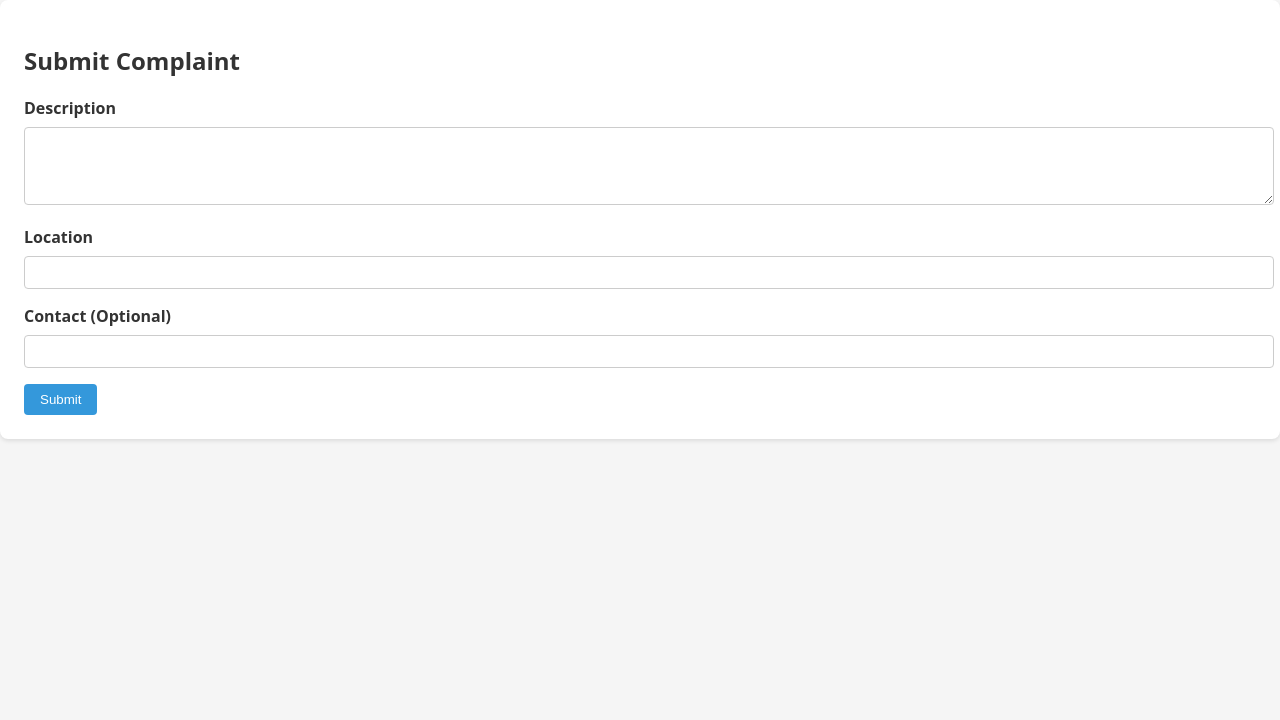
Test case: ComplaintForm › successful submission shows triage result
The width and height of the screenshot is (1280, 720).
Type "There is a huge pothole here." into the text box labelled "Description".
click(649, 166); type("There is a huge pothole here.")  # box [24,127,1274,205]
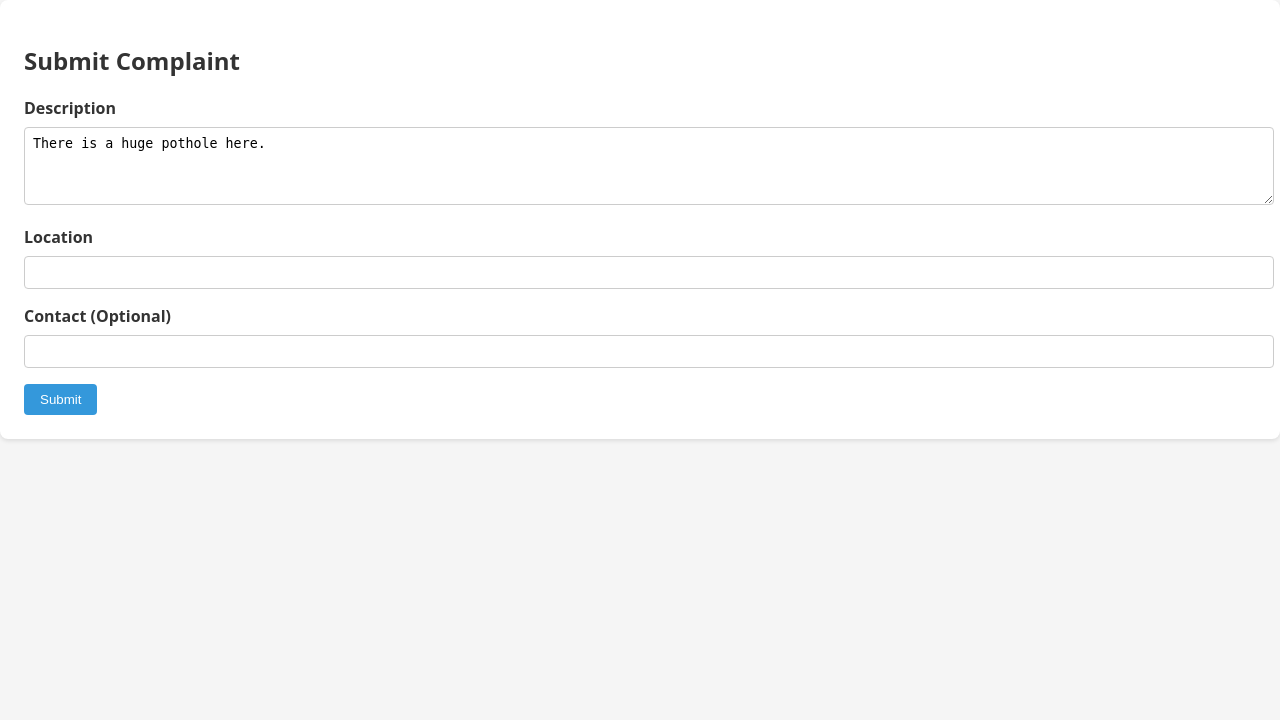
Type "Main St" into the field labelled "Location".
click(649, 272); type("Main St")  # box [24,256,1274,289]
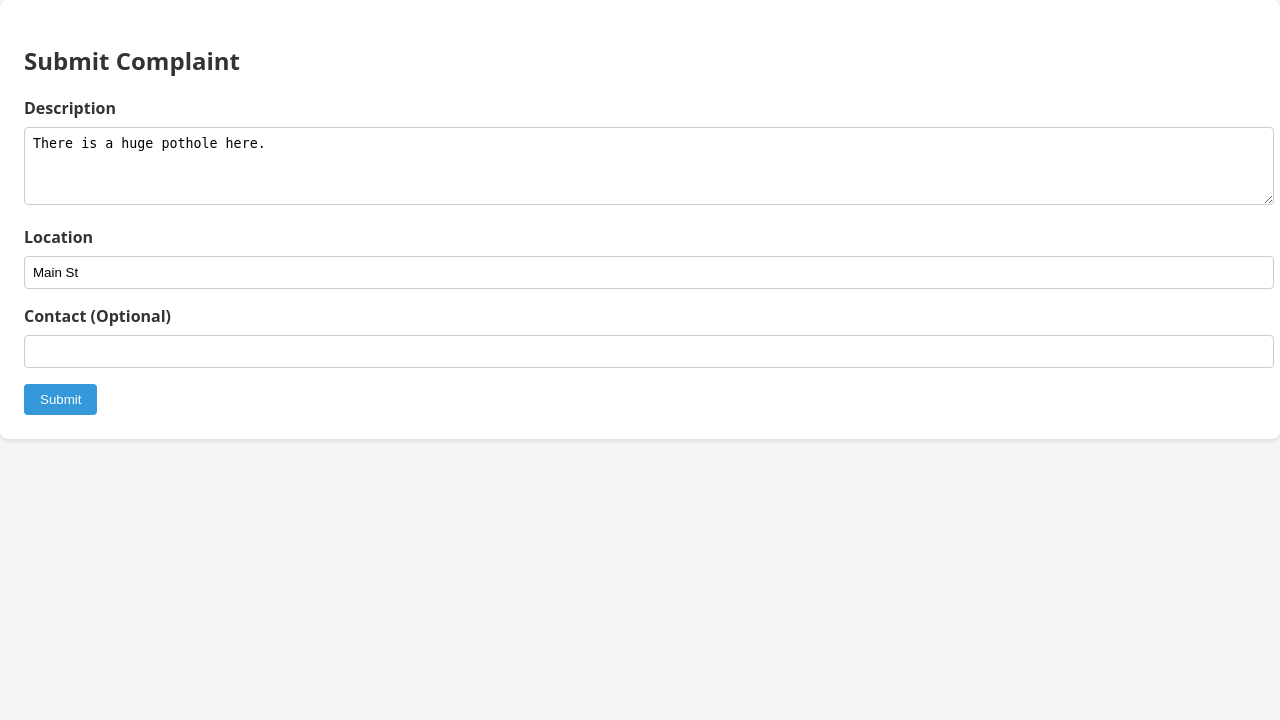
Click the button "Submit".
click(61, 399)  # box [24,384,98,415]
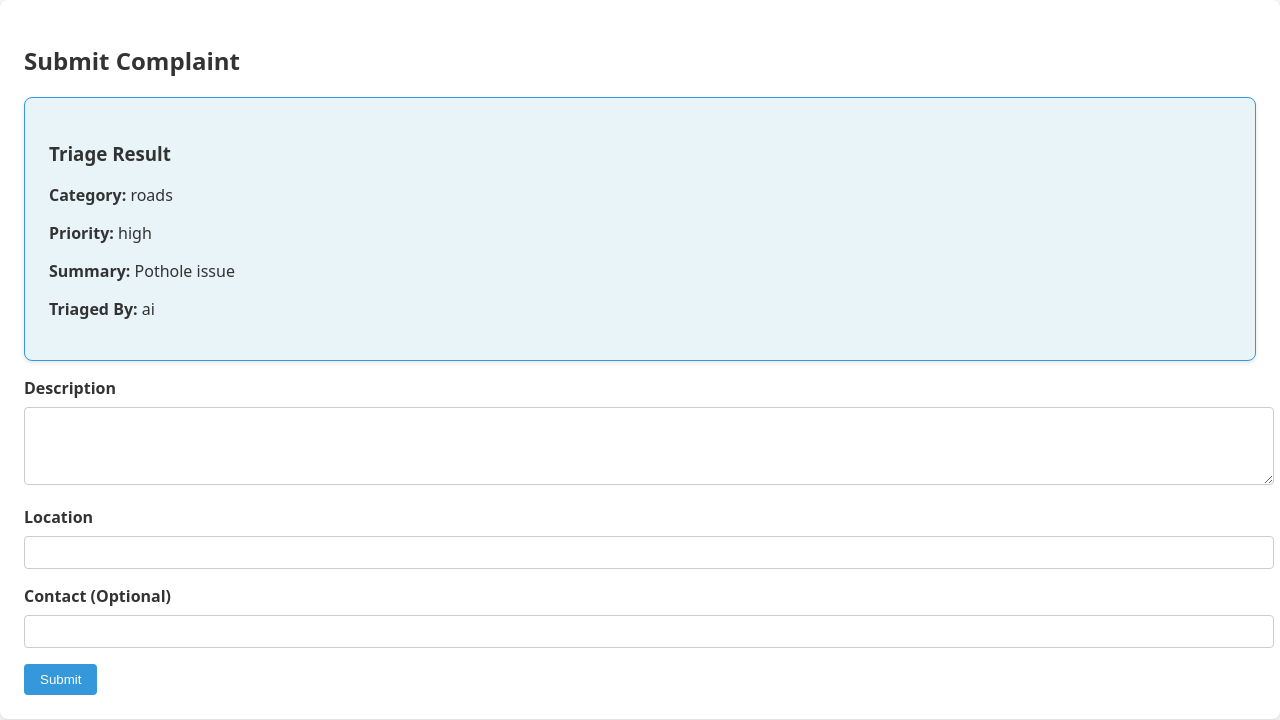
Expected: the heading "Triage Result" is shown, [49,140,171,166]
Expected: the text "roads" is shown, [130,184,173,206]
Expected: the text "high" is shown, [118,222,152,244]
